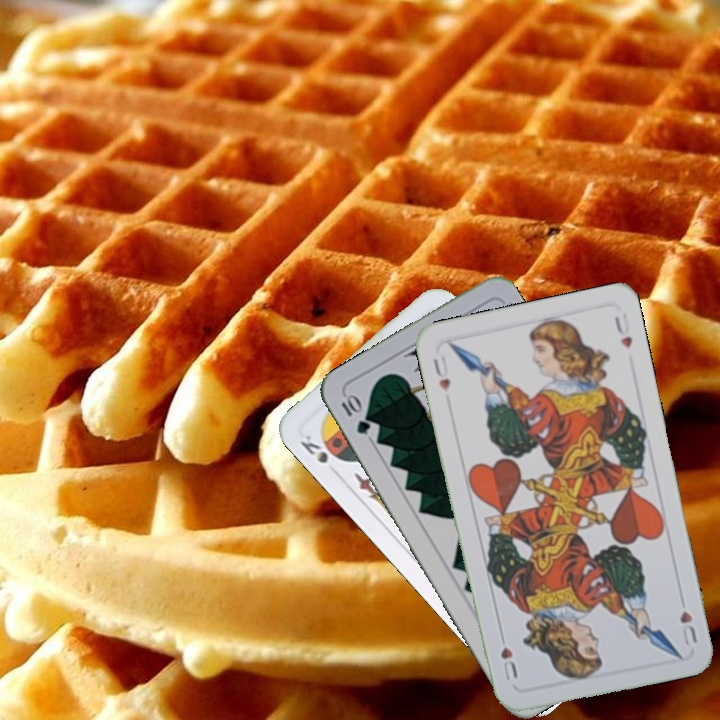G10: (337, 390, 373, 437)
HU: (674, 607, 701, 648), (429, 352, 453, 393)
SK: (296, 430, 345, 466)
